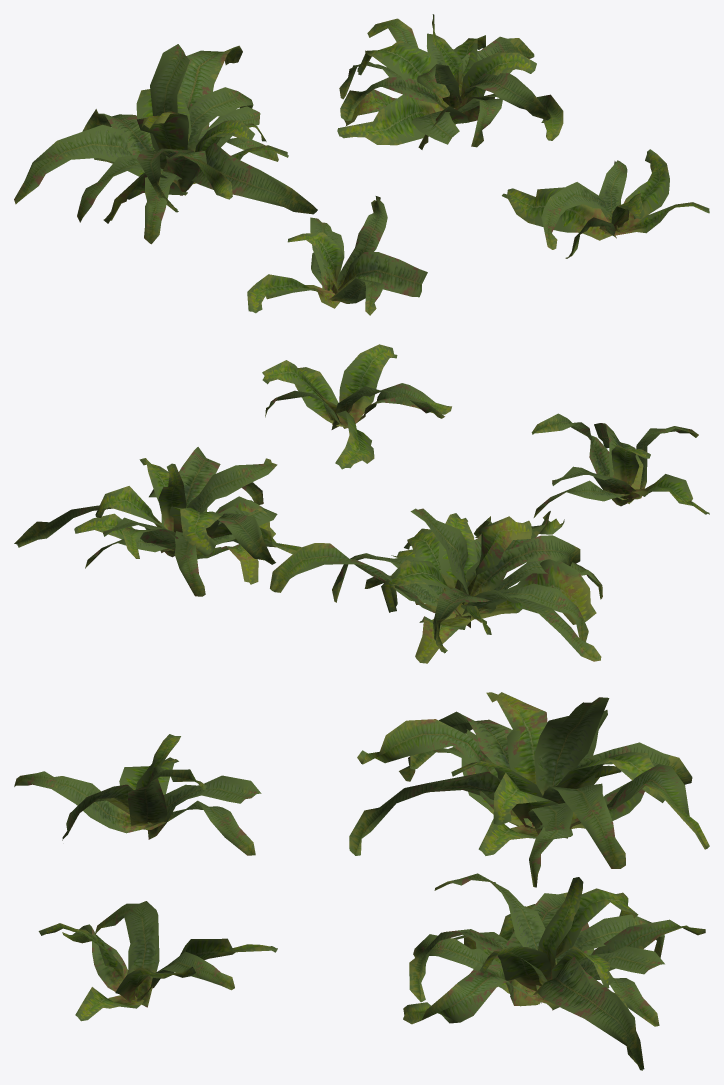
File: fern_02.glb
The picture shows the model from 3 angles, top to bottom: view 1: azimuth 30°, elevation 25°; view 2: azimuth 150°, elevation 25°; view 3: azimuth 270°, elevation 25°; orthographic projection. The views are drawn at different scales.
Visible parts, largest first — view 1: fern_02_b, fern_02_c, fern_02_a, fern_02_d; view 2: fern_02_b, fern_02_c, fern_02_d, fern_02_a; view 3: fern_02_b, fern_02_c, fern_02_a, fern_02_d.
Boxes of the visible parts, x1=… form: fern_02_b: x1=14, y1=44, x2=317, y2=244; fern_02_c: x1=337, y1=14, x2=563, y2=149; fern_02_a: x1=247, y1=196, x2=427, y2=315; fern_02_d: x1=502, y1=149, x2=709, y2=258; fern_02_b: x1=270, y1=508, x2=602, y2=663; fern_02_c: x1=14, y1=447, x2=301, y2=596; fern_02_d: x1=262, y1=344, x2=451, y2=469; fern_02_a: x1=531, y1=413, x2=709, y2=517; fern_02_b: x1=349, y1=692, x2=709, y2=887; fern_02_c: x1=403, y1=873, x2=705, y2=1070; fern_02_a: x1=14, y1=734, x2=261, y2=855; fern_02_d: x1=38, y1=901, x2=277, y2=1021.
Size of the model in its own units: 1.97 by 0.4277 by 1.72.
1 material, 1 textured.
